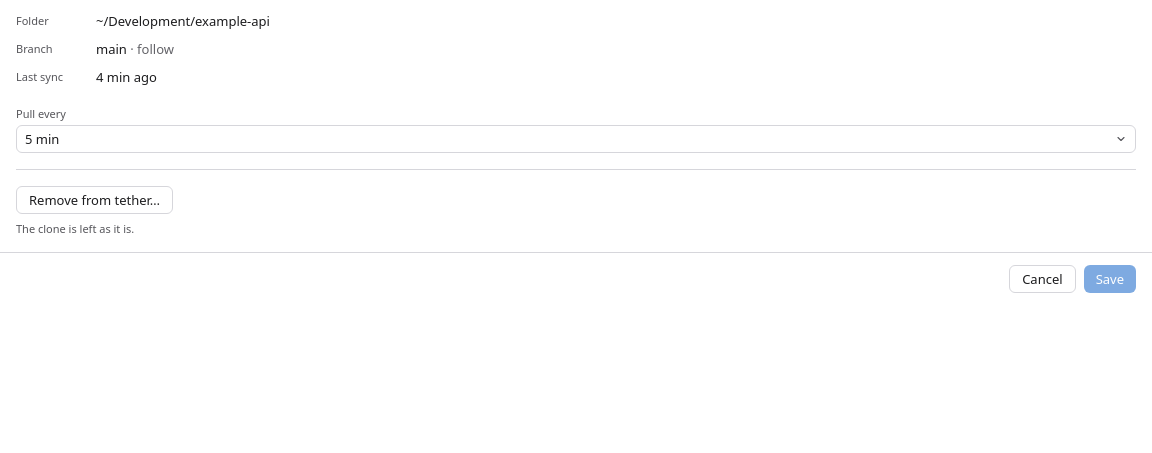
RepoSettings › titles a refused removal Not removed
The image size is (1152, 453).
Click the button "Remove from tether…" at (95, 200), box [16,186,173,214]
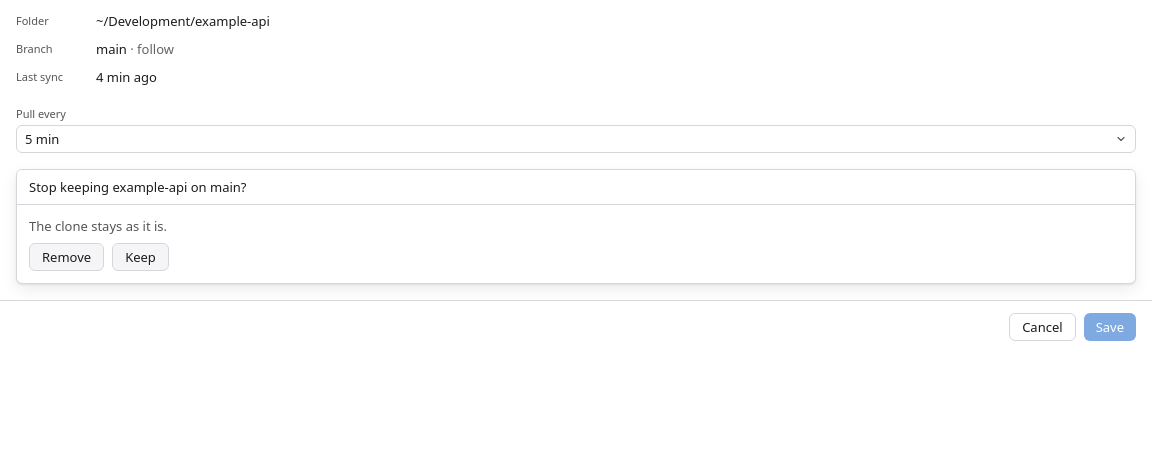
Click the button "Remove" at (67, 257), box [29,243,104,271]
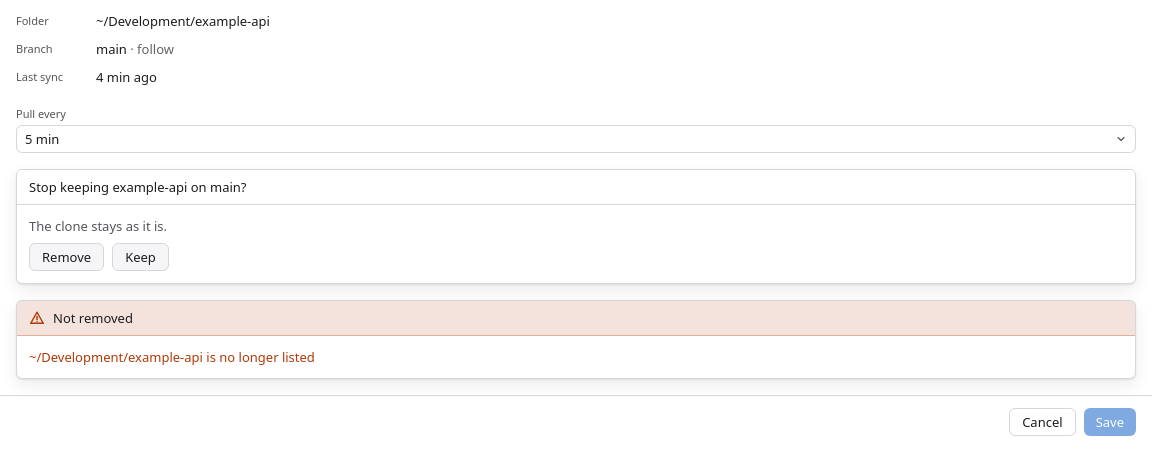
Expected: the message shows "Not removed", [53,309,133,327]
Expected: the message shows "~/Development/example-api is no longer listed", [29,348,315,366]
